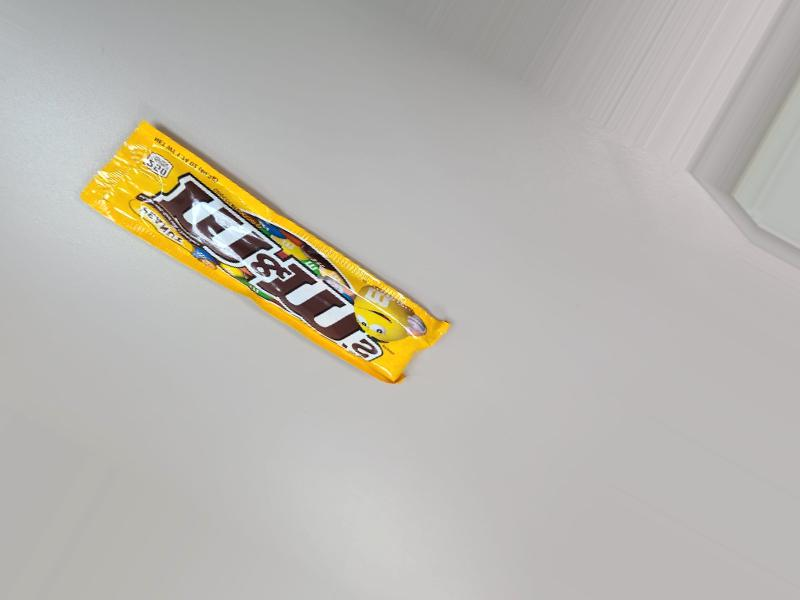m&m: (97, 121, 442, 383)
